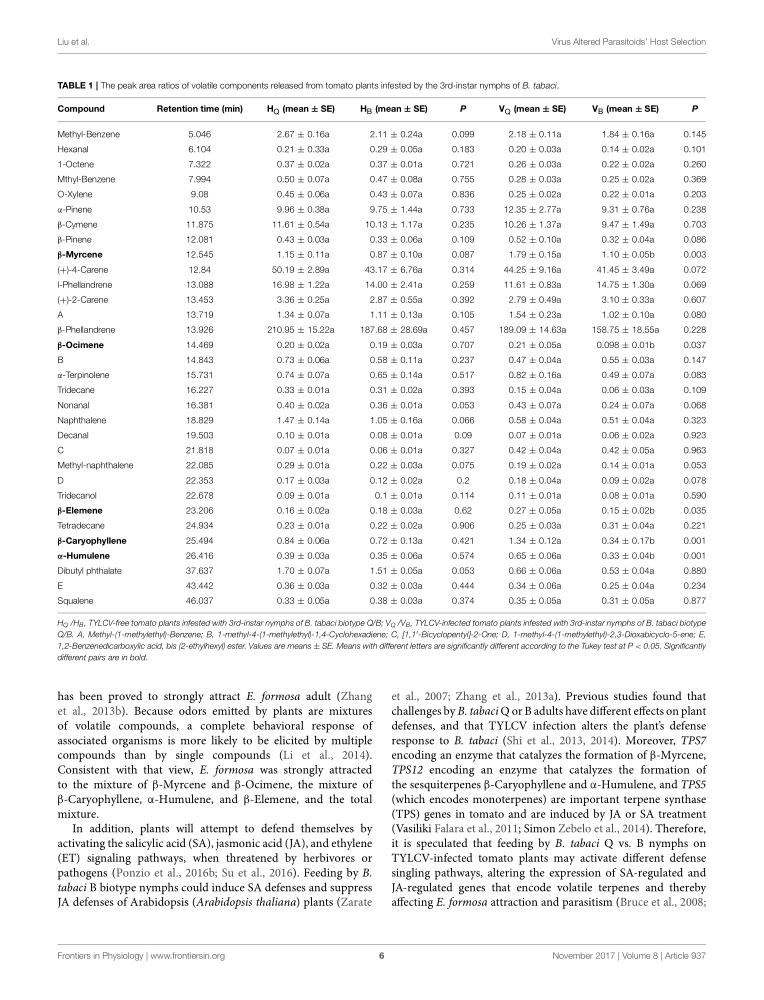table: (57, 104, 705, 605)
